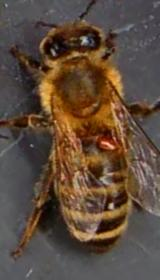varroa_mite: (90, 127, 122, 156)
